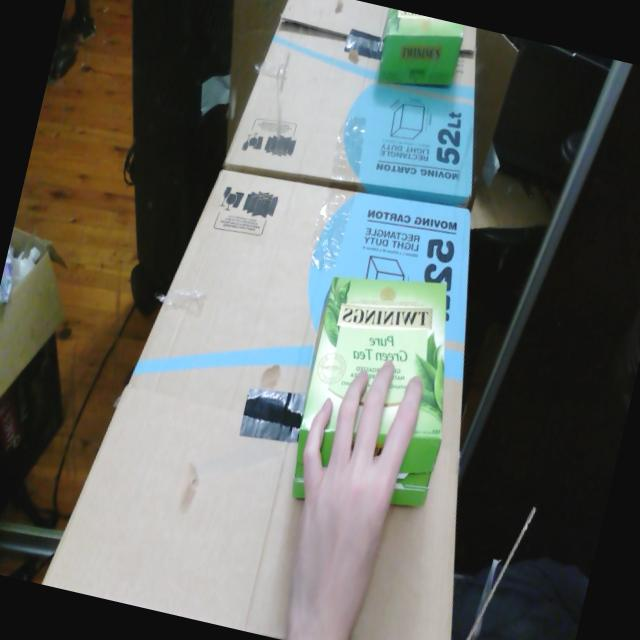twinings_greentea_box: (292, 277, 446, 506)
